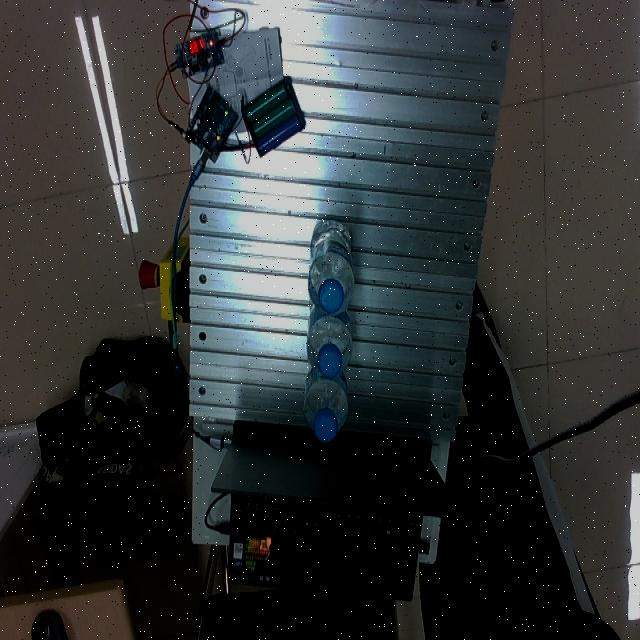lavie: (307, 222, 355, 318), (303, 363, 349, 441), (307, 305, 353, 380)
